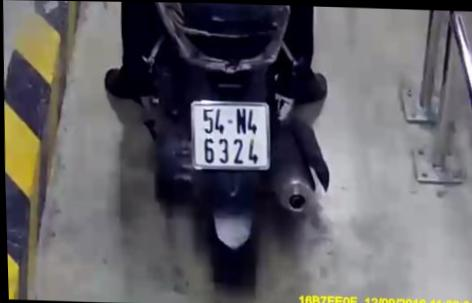LP: (189, 100, 270, 170)
